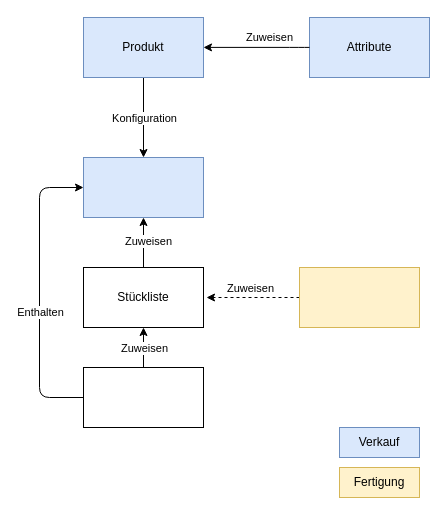
Some shapes in this 447 by 515 pixel diagram are drawn without their labels. The shapes that lost their labels are listed below. From the top down, each one's box as (x1, y1, x2, y2) in pixels, then its label:
(82, 156, 204, 218): Produktvariante
(298, 266, 420, 328): Arbeitsplan
(82, 366, 204, 428): Komponentenliste
